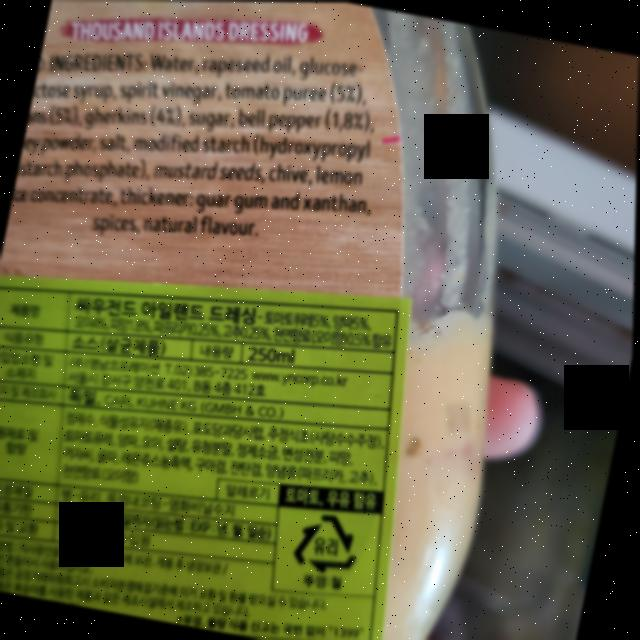Glass: (292, 506, 367, 579)
